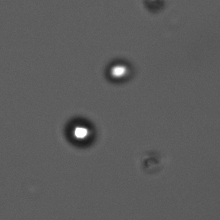Dead Cell: (141, 149, 163, 171), (142, 1, 168, 12)
Living Cell: (63, 116, 97, 149), (105, 58, 135, 85)
